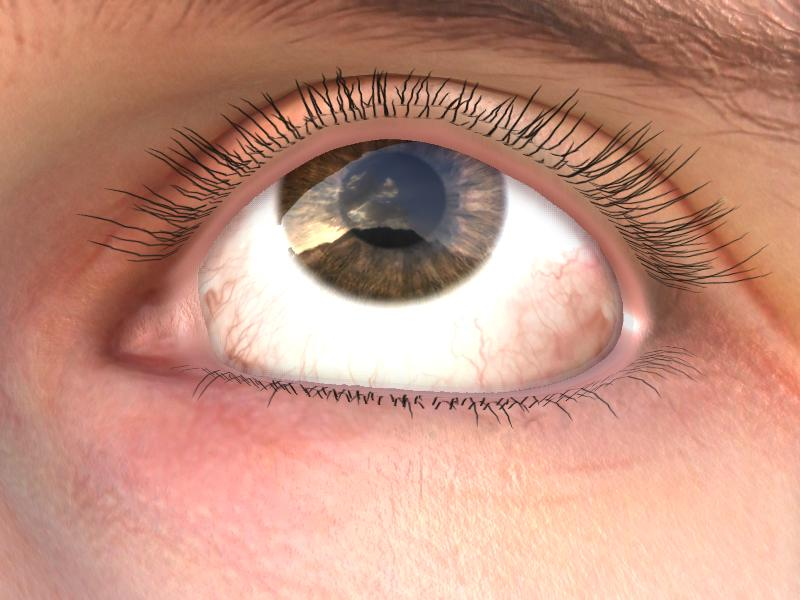eye: (280, 139, 502, 303)
